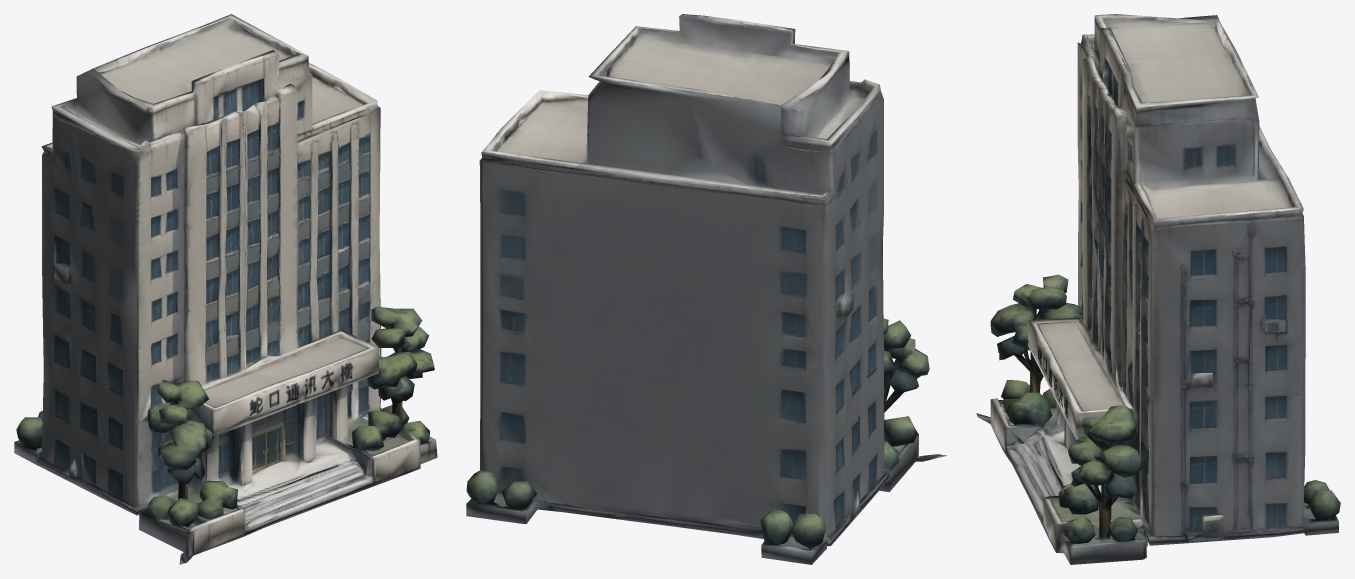
Rendered from press-facade.glb.
The picture shows the model from 3 angles, left to right: view 1: azimuth 30°, elevation 25°; view 2: azimuth 150°, elevation 25°; view 3: azimuth 270°, elevation 25°; orthographic projection. The views are drawn at different scales.
Parts seen in each view (by area): view 1: tripo_node_ab34c65d-bf04-4d12-9542-1f18660c9892; view 2: tripo_node_ab34c65d-bf04-4d12-9542-1f18660c9892; view 3: tripo_node_ab34c65d-bf04-4d12-9542-1f18660c9892.
Part boxes in pixels (x1=…): tripo_node_ab34c65d-bf04-4d12-9542-1f18660c9892: x1=14, y1=14, x2=437, y2=564; tripo_node_ab34c65d-bf04-4d12-9542-1f18660c9892: x1=466, y1=14, x2=946, y2=564; tripo_node_ab34c65d-bf04-4d12-9542-1f18660c9892: x1=976, y1=14, x2=1340, y2=564.
Size of the model in its own units: 0.8486 by 1 by 0.7712.
1 material, 1 textured.
